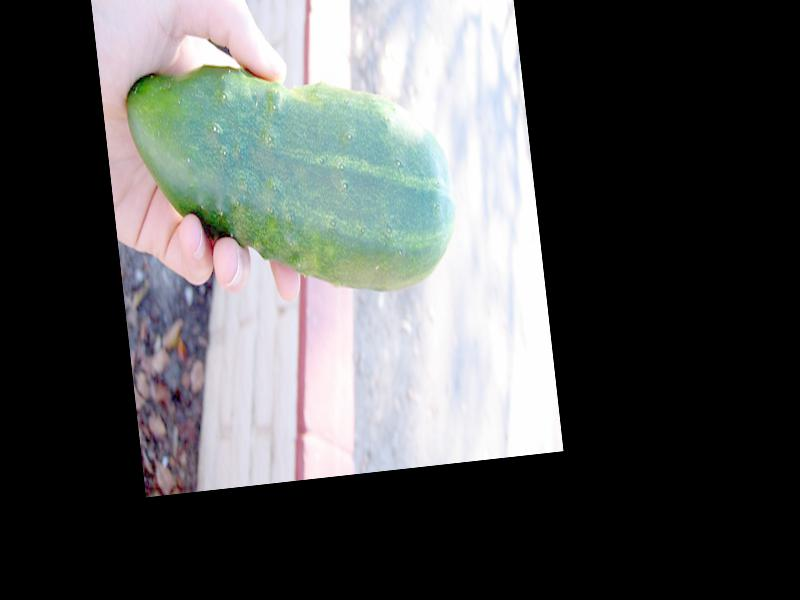Cucumber: (123, 42, 462, 319)
